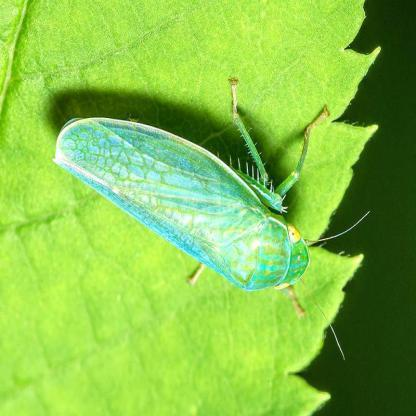green-leafhopper: (53, 100, 322, 294)
